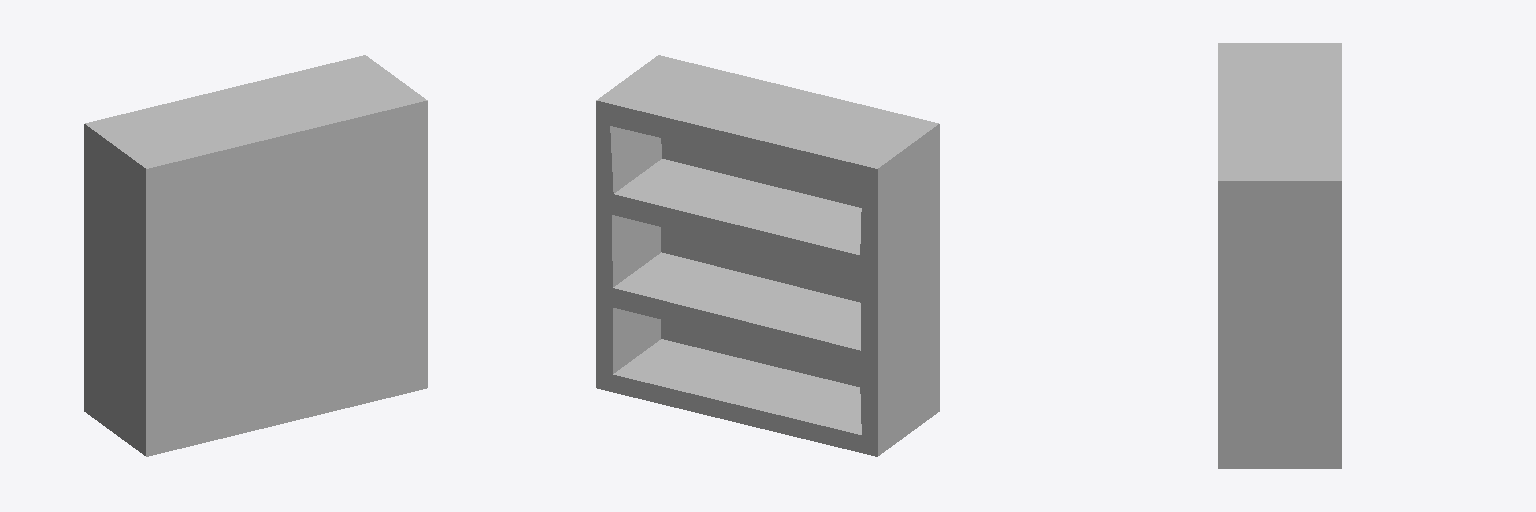
File: bookshelf.obj
3 views of the same model, side by side, from view 1: azimuth 30°, elevation 25°; view 2: azimuth 150°, elevation 25°; view 3: azimuth 270°, elevation 25° (orthographic).
Visible parts, largest first — view 1: bookshelf; view 2: bookshelf; view 3: bookshelf.
Part boxes in pixels (left/top/right/bottom): bookshelf: left=84, top=55, right=427, bottom=456; bookshelf: left=596, top=55, right=939, bottom=456; bookshelf: left=1218, top=43, right=1341, bottom=468.
Bounding box in the file's own units: 16.29 × 15.94 × 6.24.